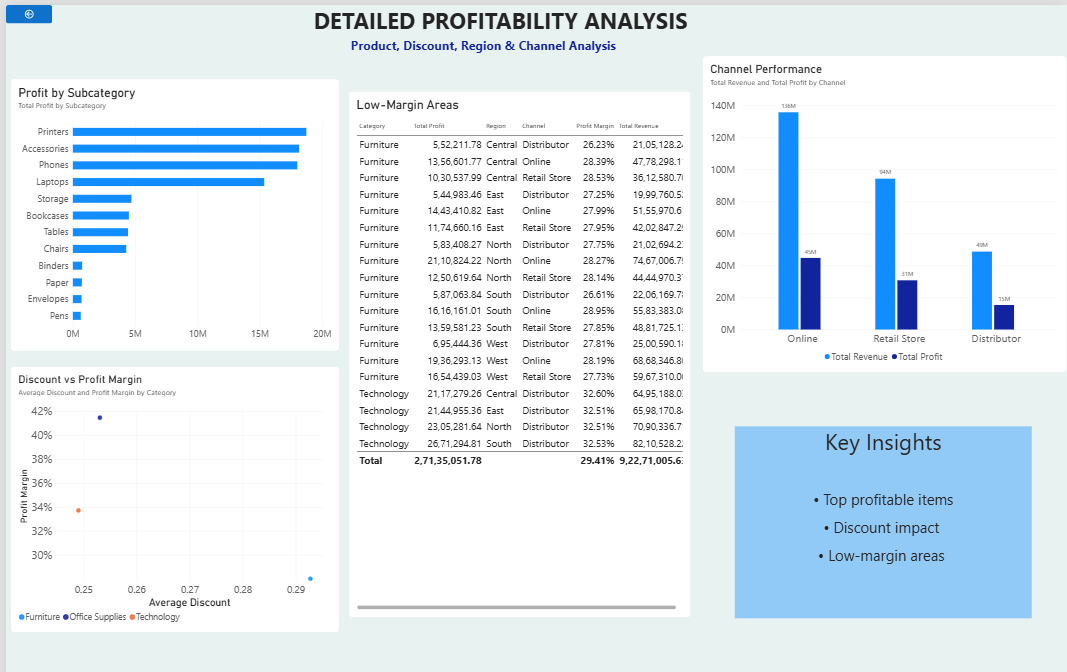

The page's visual inventory and layout, read from the dashboard file:
{"tool":"powerbi","page":{"name":"Detailed Profitability Analysis","canvas":[2300,1500],"ordinal":1},"visuals":[{"type":"textbox","box":[9.7,0,1912.9,71],"z":0},{"type":"textbox","box":[0,71,1841.9,38.7],"z":1000},{"type":"clusteredBarChart","title":"Profit by Subcategory","fields":{"Category":["sales_profitability.Subcategory"],"Y":["sales_profitability.Total Profit"]},"box":[9.7,161.3,712.9,590.3],"z":2000},{"type":"scatterChart","title":"Discount vs Profit Margin","fields":{"Series":["sales_profitability.Category"],"X":["sales_profitability.Average Discount"],"Y":["sales_profitability.Profit Margin"]},"box":[9.7,783.9,712.9,577.4],"z":3000},{"type":"clusteredColumnChart","title":"Channel Performance","fields":{"Category":["sales_profitability.Channel"],"Y":["sales_profitability.Total Revenue","sales_profitability.Total Profit"]},"box":[1509.7,109.7,790.3,687.1],"z":4000},{"type":"tableEx","title":"Low-Margin Areas","fields":{"Values":["sales_profitability.Category","sales_profitability.Total Profit","sales_profitability.Region","sales_profitability.Channel","sales_profitability.Profit Margin","sales_profitability.Total Revenue"]},"box":[744.8,186.2,741.4,1141.4],"z":5000},{"type":"actionButton","box":[0,0,100,40],"z":6000},{"type":"textbox","box":[10,1329,713,171],"z":6001},{"type":"textbox","box":[1580,912,644,416],"z":6002}]}

Visuals, with their boxes on the page's 2300x1500 design canvas (x1, y1, x2, y2). These are canvas units, not pixel positions in the 1067x672 screenshot, which may show the page scaled, cropped or inside an application window:
textbox: select_region(10, 0, 1923, 71)
textbox: select_region(0, 71, 1842, 110)
"Profit by Subcategory" clusteredBarChart: select_region(10, 161, 723, 752)
"Discount vs Profit Margin" scatterChart: select_region(10, 784, 723, 1361)
"Channel Performance" clusteredColumnChart: select_region(1510, 110, 2300, 797)
"Low-Margin Areas" tableEx: select_region(745, 186, 1486, 1328)
actionButton: select_region(0, 0, 100, 40)
textbox: select_region(10, 1329, 723, 1500)
textbox: select_region(1580, 912, 2224, 1328)
